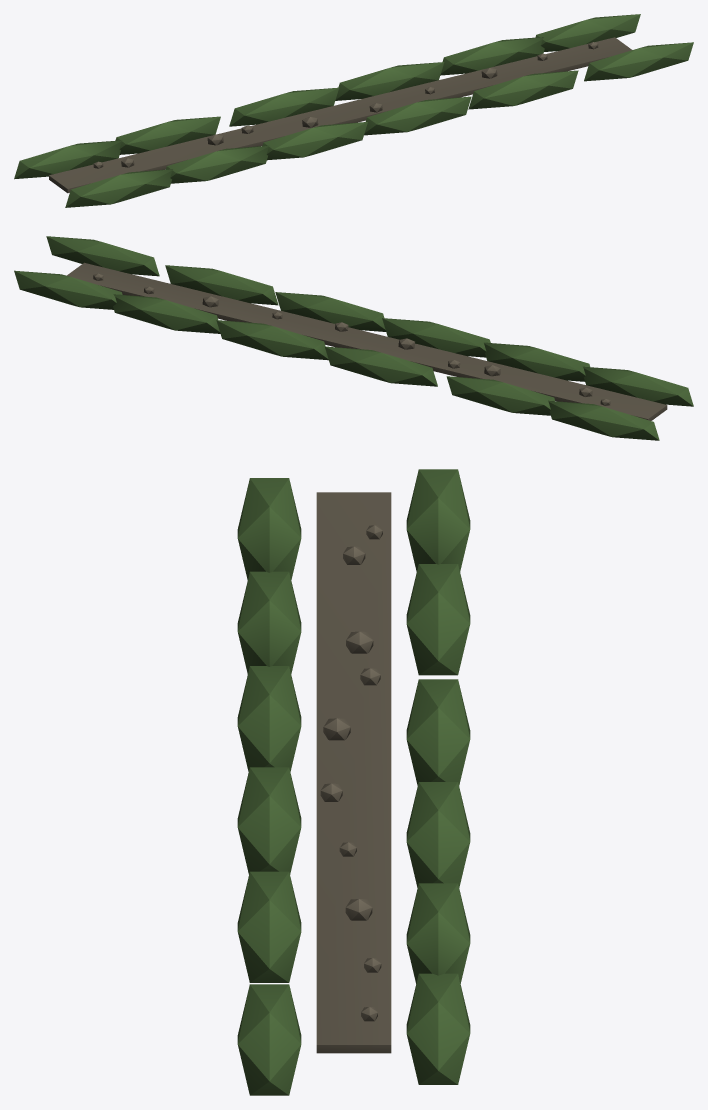
Rendered from struct_swale.glb.
3 renders of one model, top to bottom at view 1: azimuth 30°, elevation 25°; view 2: azimuth 150°, elevation 25°; view 3: azimuth 270°, elevation 25°, orthographic. The views are drawn at different scales.
Visible parts, largest first — view 1: turf, gravel; view 2: turf, gravel; view 3: turf, gravel.
Part boxes in pixels (x1=…): turf: x1=14, y1=14, x2=693, y2=207; gravel: x1=49, y1=37, x2=631, y2=193; turf: x1=14, y1=236, x2=693, y2=440; gravel: x1=67, y1=262, x2=667, y2=420; turf: x1=237, y1=469, x2=470, y2=1095; gravel: x1=316, y1=492, x2=391, y2=1053.
Size of the model in its own units: 9.42 by 0.385 by 1.49.
